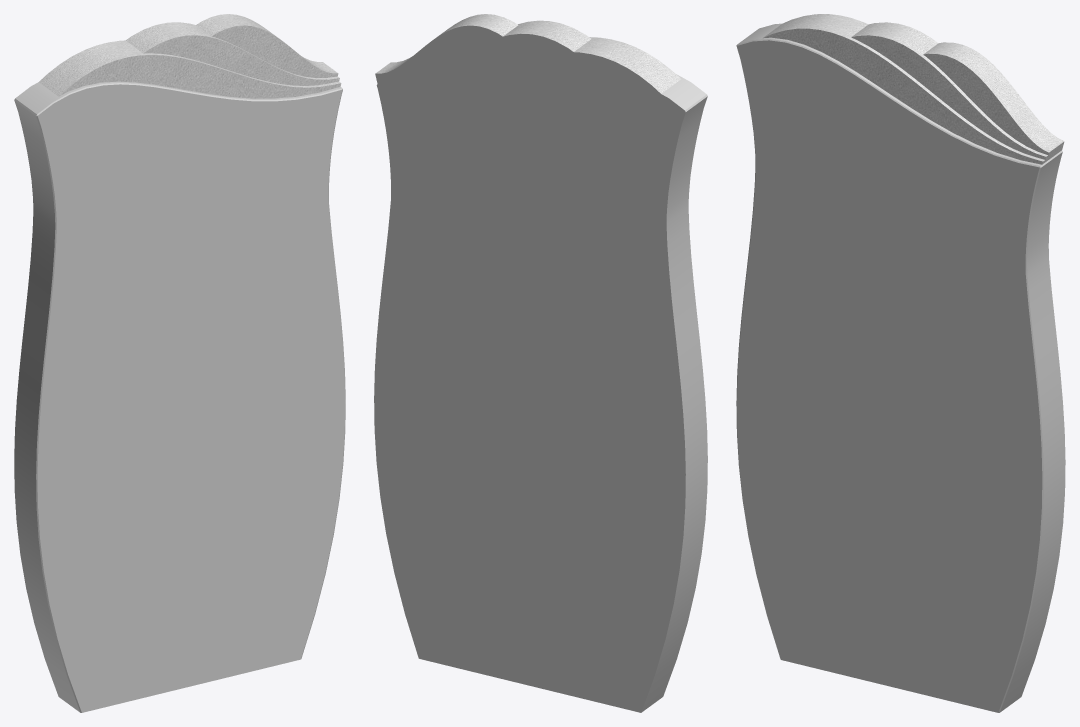
File: cn3f032eb0ac_tkf.glb
3 renders of one model, left to right at view 1: azimuth 30°, elevation 25°; view 2: azimuth 150°, elevation 25°; view 3: azimuth 330°, elevation 25°, orthographic.
Parts seen in each view (by area): view 1: Pam-v-084-2, Pam-v-084-2_2_notexture; view 2: Pam-v-084-2, Pam-v-084-2_2_notexture; view 3: Pam-v-084-2, Pam-v-084-2_2_notexture.
Part boxes in pixels (x1,y1,x2,y2): Pam-v-084-2: (14, 81, 345, 712); Pam-v-084-2_2_notexture: (39, 14, 341, 98); Pam-v-084-2: (374, 25, 707, 712); Pam-v-084-2_2_notexture: (376, 14, 680, 93); Pam-v-084-2: (736, 23, 1065, 712); Pam-v-084-2_2_notexture: (763, 14, 1064, 164).
Size of the model in its own units: 0.4 by 0.8 by 0.05.
1 material, 1 textured.
